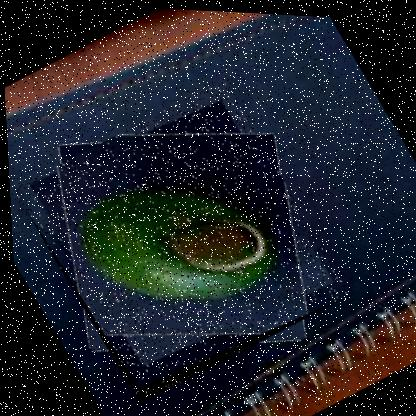orange_rotten: (5, 67, 352, 411)
